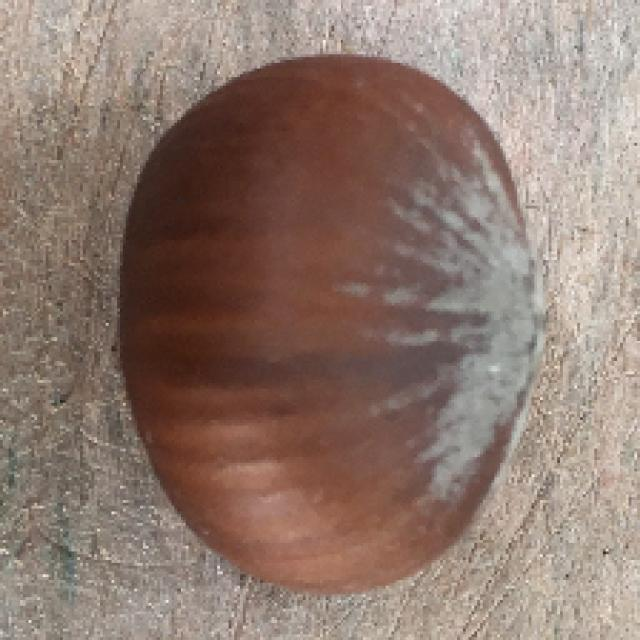qualityHazelnut: (112, 53, 547, 592)
